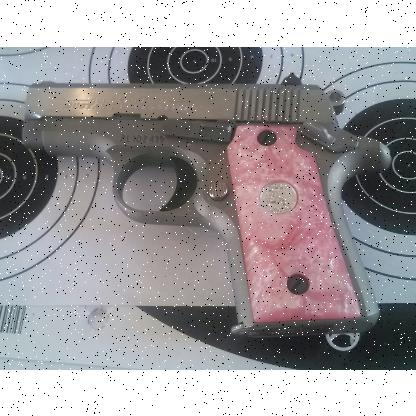gun: (21, 72, 391, 336)
